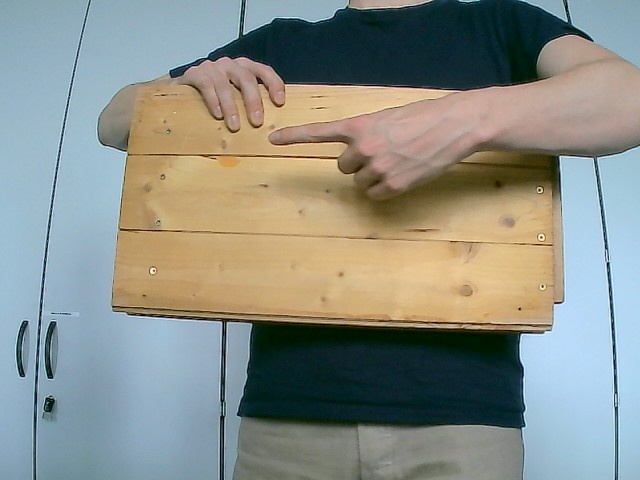no_gesture: (177, 55, 291, 137)
right: (267, 90, 490, 203)
